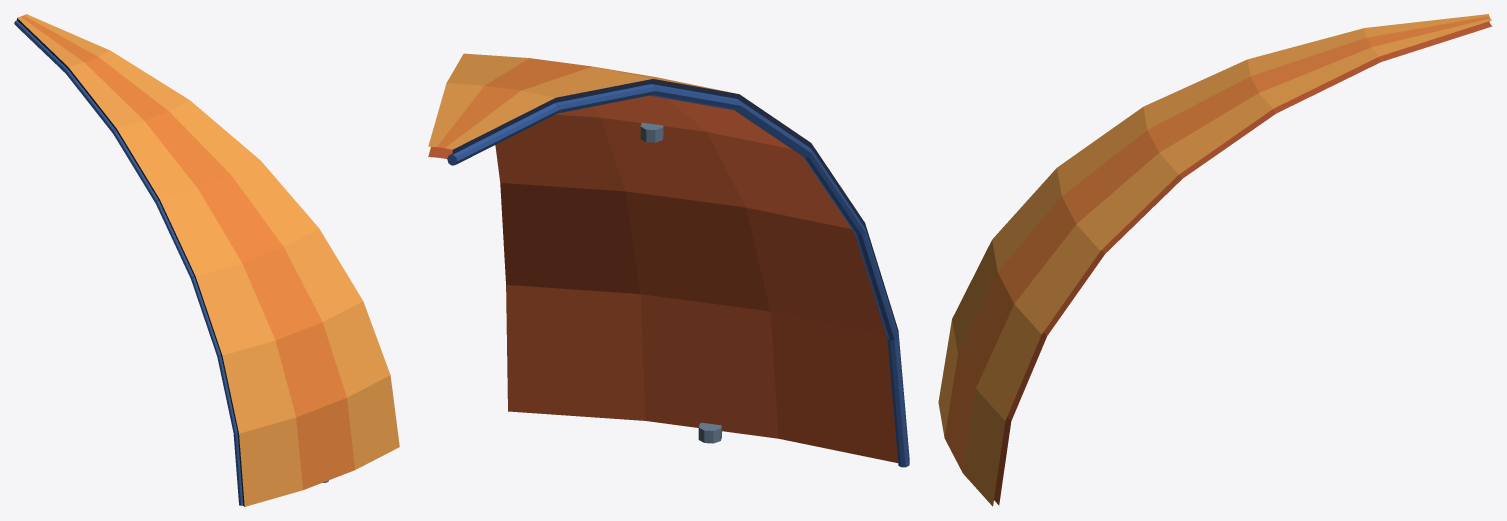
The model's file is shutter_left.glb.
3 views of the same model, side by side, from view 1: azimuth 30°, elevation 25°; view 2: azimuth 150°, elevation 25°; view 3: azimuth 270°, elevation 25° (orthographic). The views are drawn at different scales.
Parts seen in each view (by area): view 1: shutter_left.001; view 2: shutter_left.001; view 3: shutter_left.001.
Boxes of the visible parts, x1=… form: shutter_left.001: x1=14, y1=14, x2=399, y2=506; shutter_left.001: x1=428, y1=53, x2=909, y2=467; shutter_left.001: x1=938, y1=14, x2=1492, y2=506.
Size of the model in its own units: 4.82 by 8.31 by 10.64.
